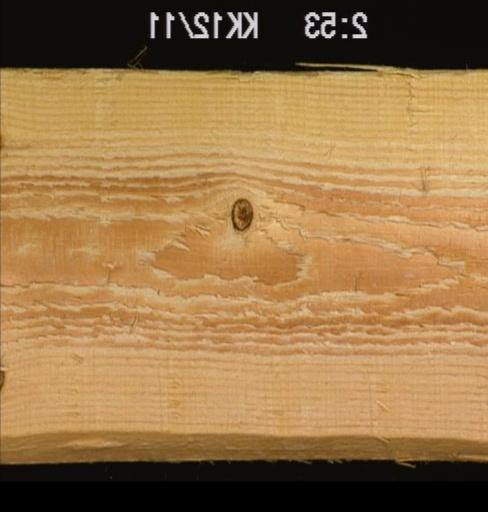dry_knot: (229, 195, 256, 231)
wave: (0, 425, 486, 466)
